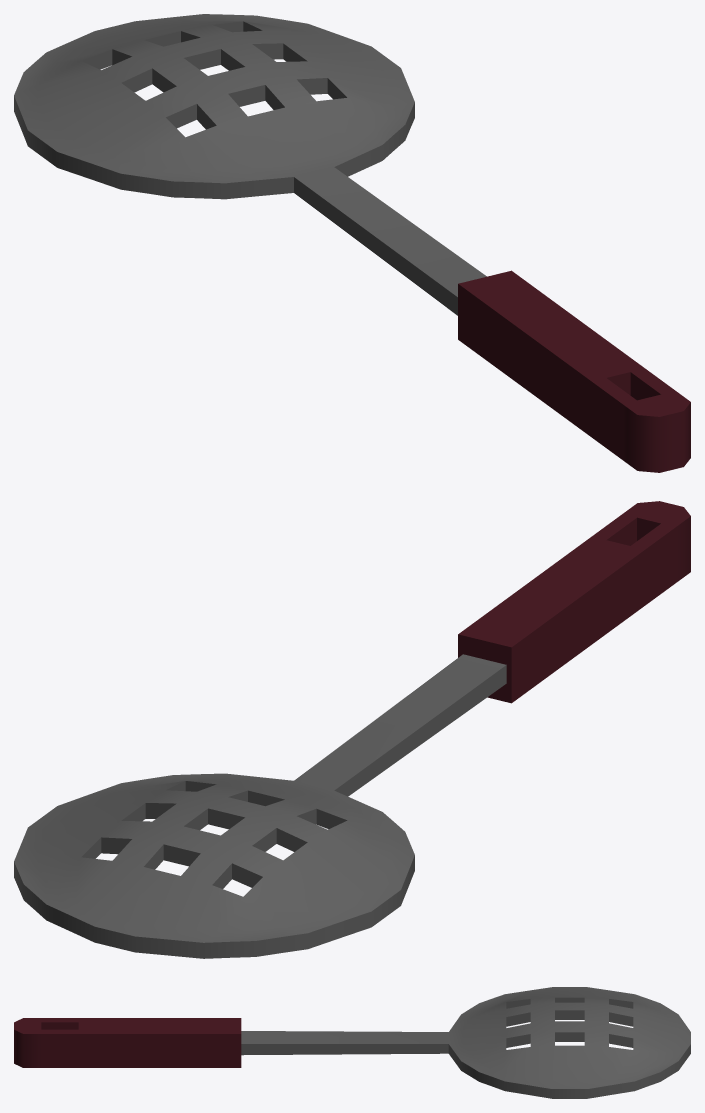
The model's file is utensil_skimmer.fbx.
3 views of the same model, one above another, from view 1: azimuth 30°, elevation 25°; view 2: azimuth 150°, elevation 25°; view 3: azimuth 270°, elevation 25° (orthographic). The views are drawn at different scales.
Parts seen in each view (by area): view 1: skimmer; view 2: skimmer; view 3: skimmer.
Part boxes in pixels (left/top/right/bottom): skimmer: left=14, top=14, right=690, bottom=472; skimmer: left=14, top=501, right=690, bottom=958; skimmer: left=14, top=987, right=690, bottom=1098.
Bounding box in the file's own units: 146 × 29.64 × 411.
